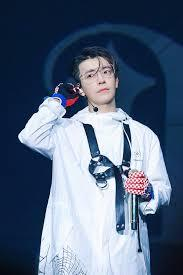earphone: (75, 86, 85, 95)
